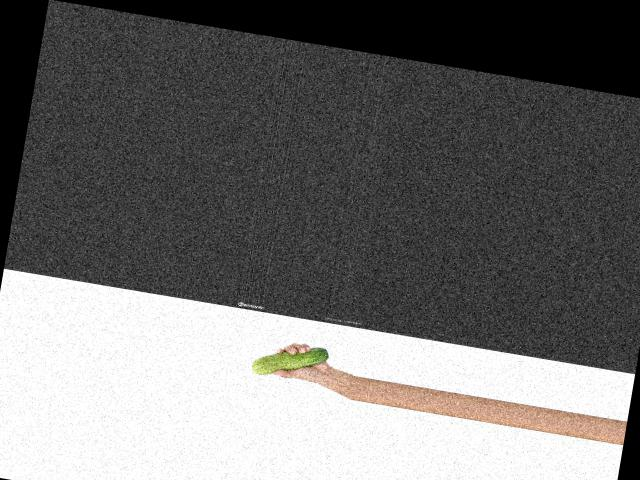cucumber: (251, 337, 330, 386)
